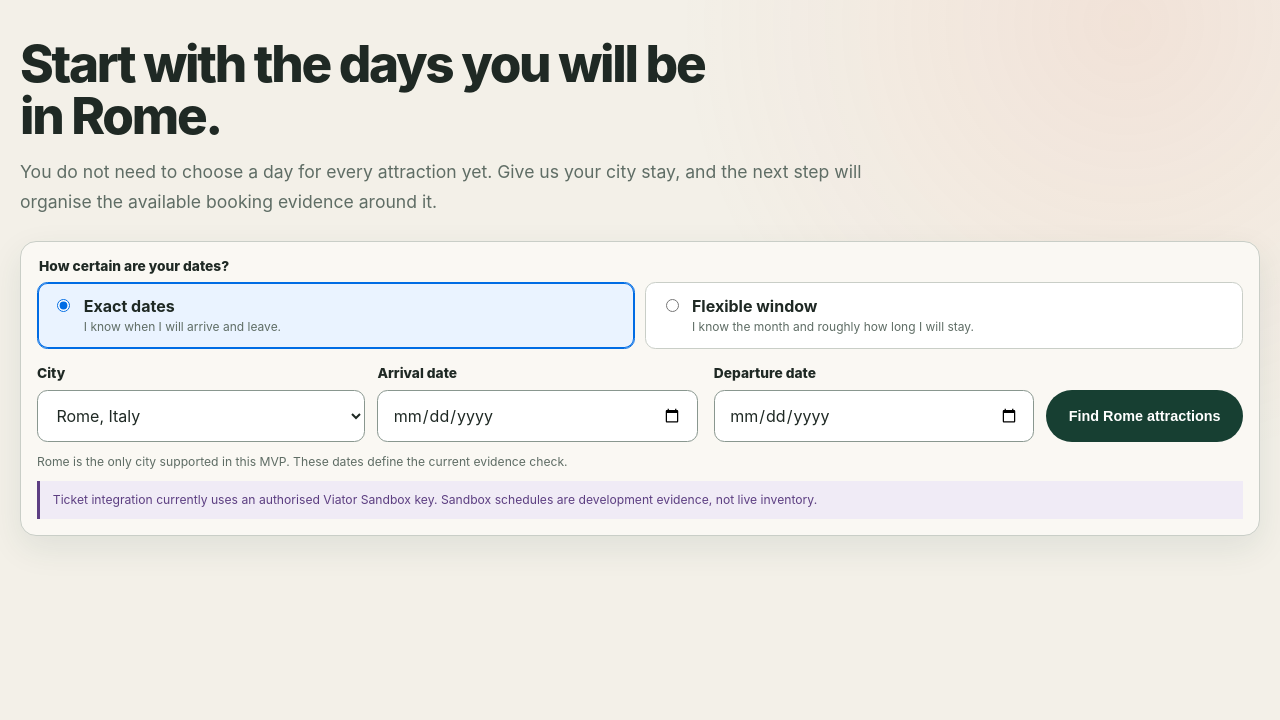
PlanPage › rejects a stay longer than thirty-one days
In the date field labelled "Arrival date": (538, 416) [377,390,698,442], type "2026-09-01"
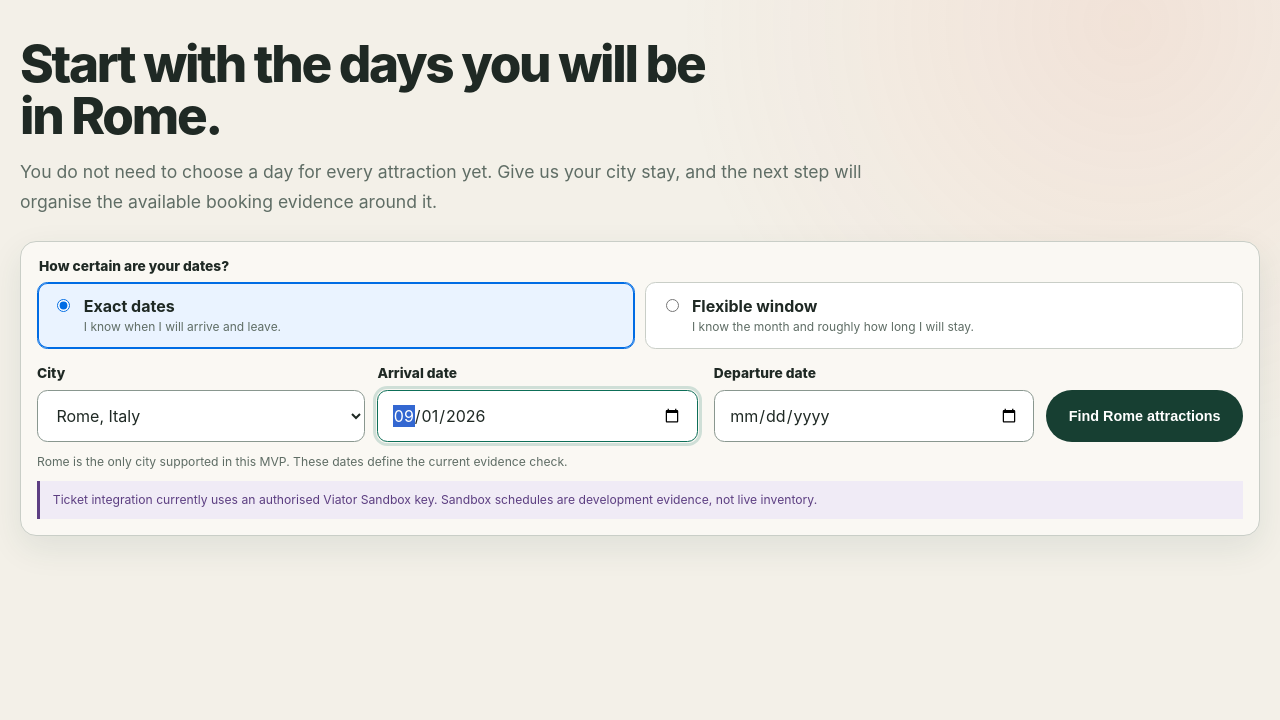
In the date field labelled "Departure date": (874, 416) [714,390,1034,442], type "2026-10-02"
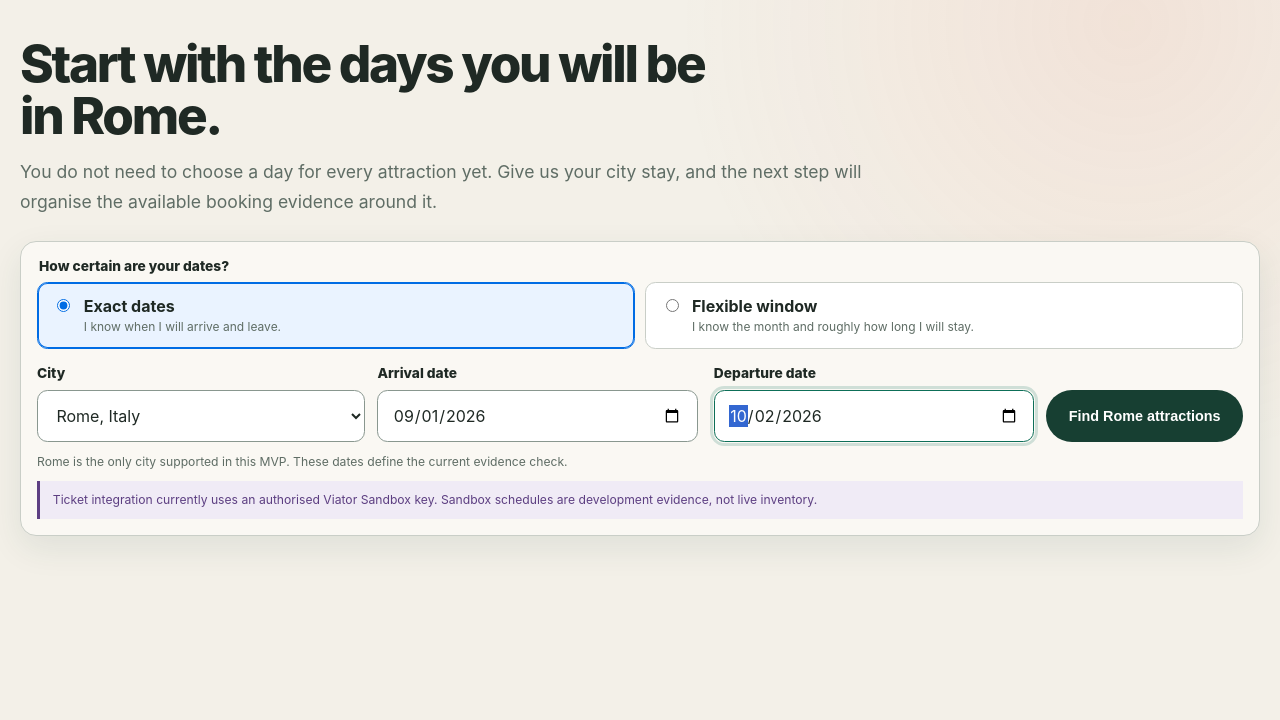
Click the button "Find Rome attractions": (1145, 416) [1046,390,1243,442]
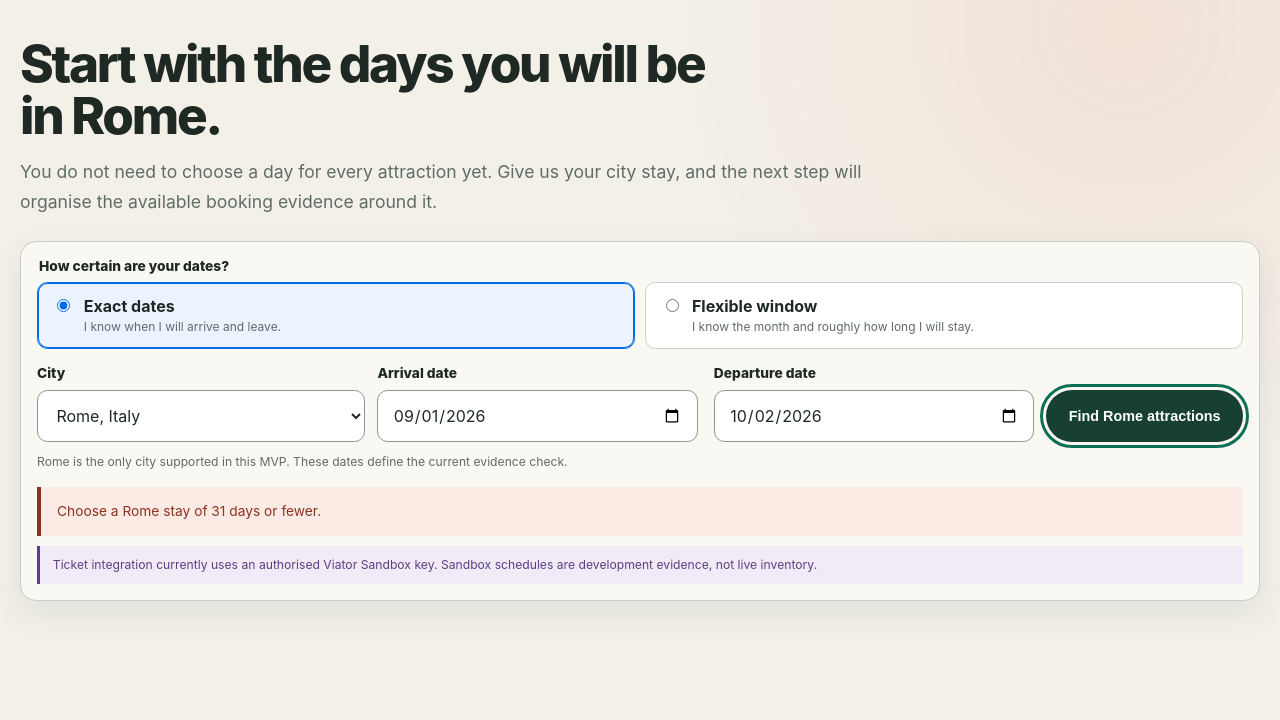
Check: the message reads "Choose a Rome stay of 31 days or fewer.", box [57,503,321,519]
